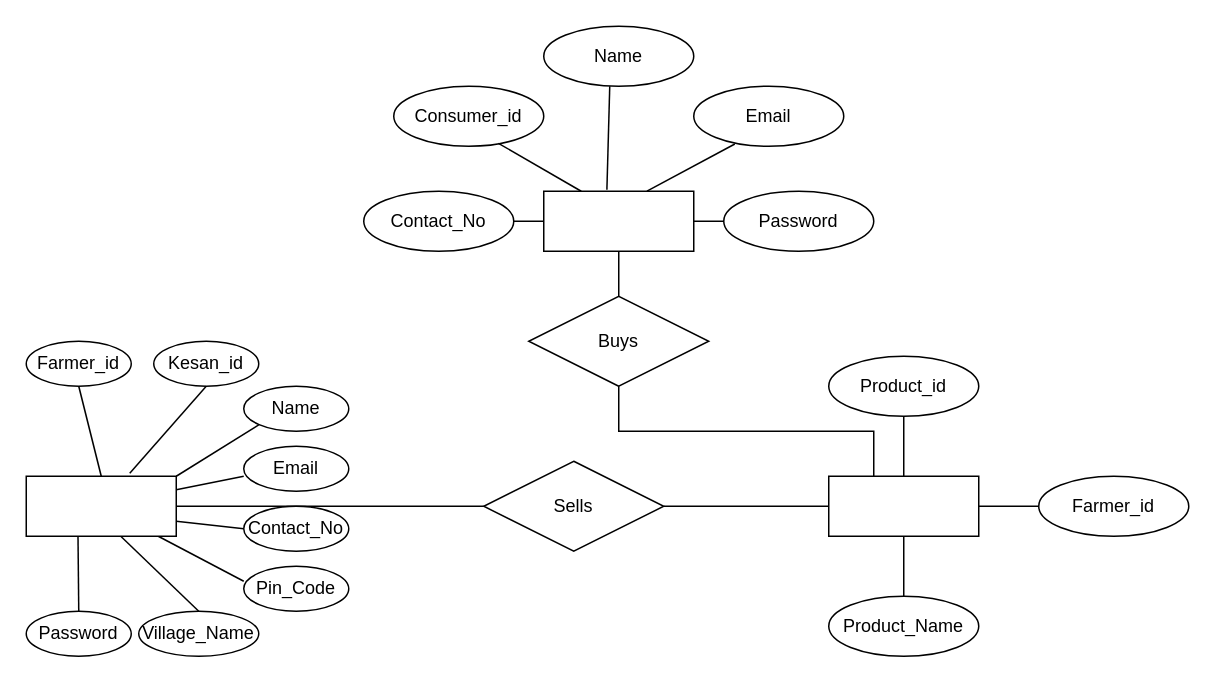
The diagram is 1215 pixels wide and 683 high, and some of its shapes have lost their labels. Here are the shapes that lost their labels. From the top down, the centre of each, then its label:
(618,220): Consumer
(100,505): Farmer
(903,505): Product
